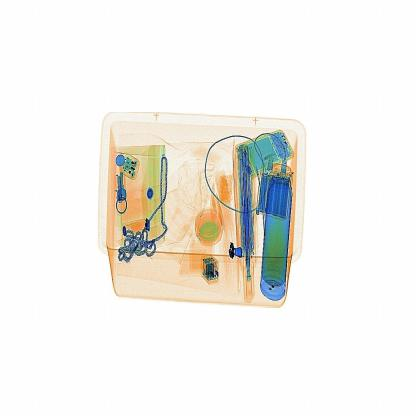wrench: (222, 238, 246, 260)
